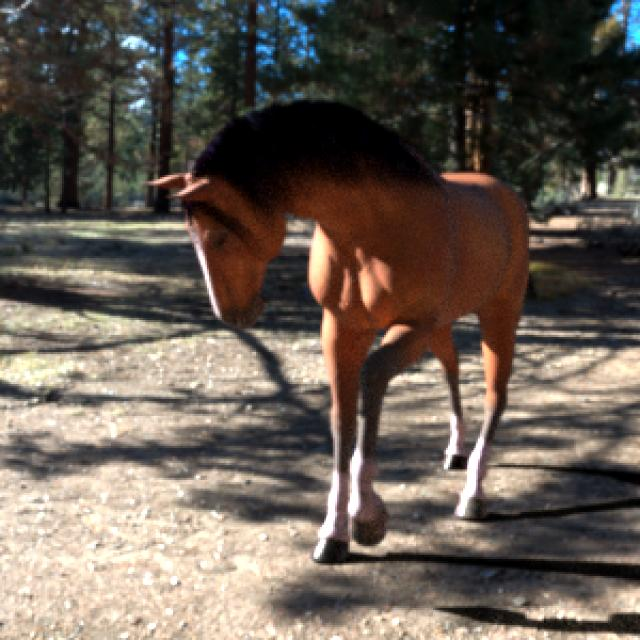horse: (151, 101, 528, 563)
